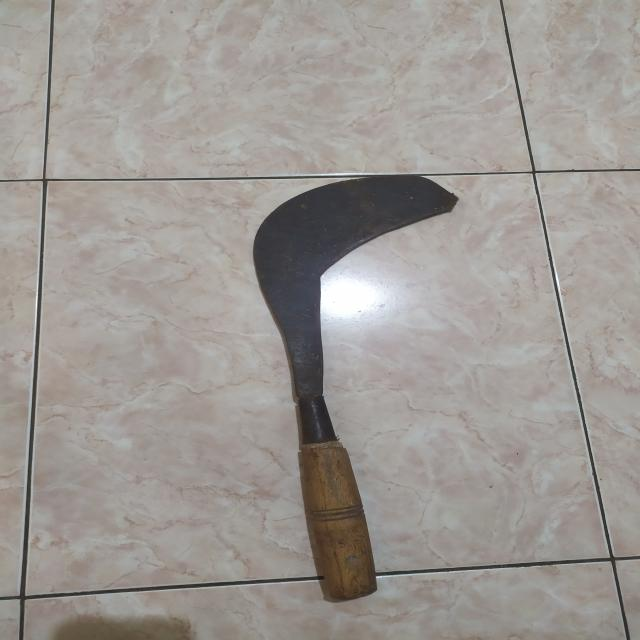Celurit: (255, 172, 466, 601)
